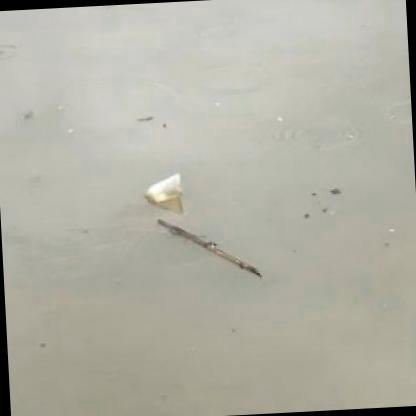Plastic: (148, 173, 186, 204)
